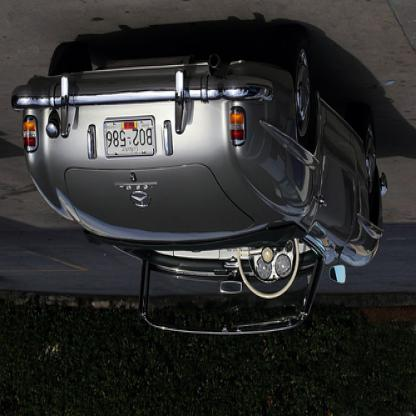car: (11, 31, 390, 337)
